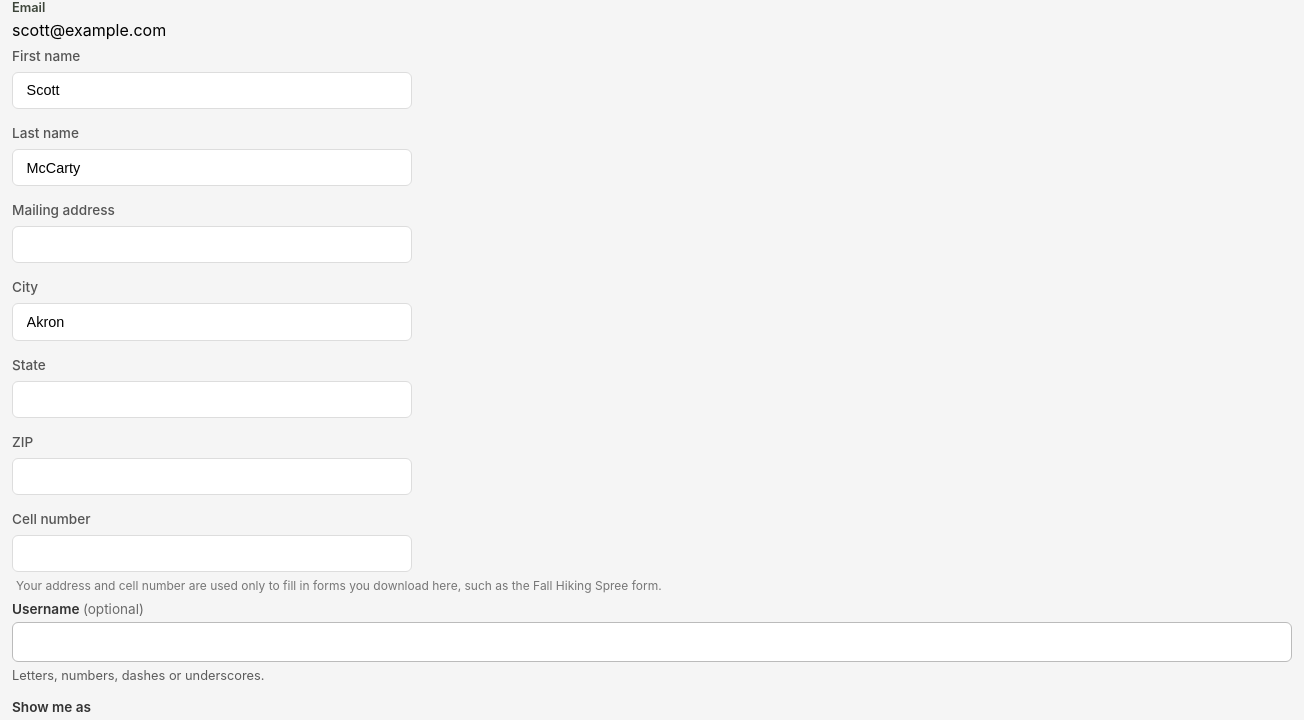
Scenario: AccountProfile › saves the name to the account and the details to the contact in one go
Replace the text in the field labelled "Last name" with "M." at (212, 168), box 12,149 -> 412,186
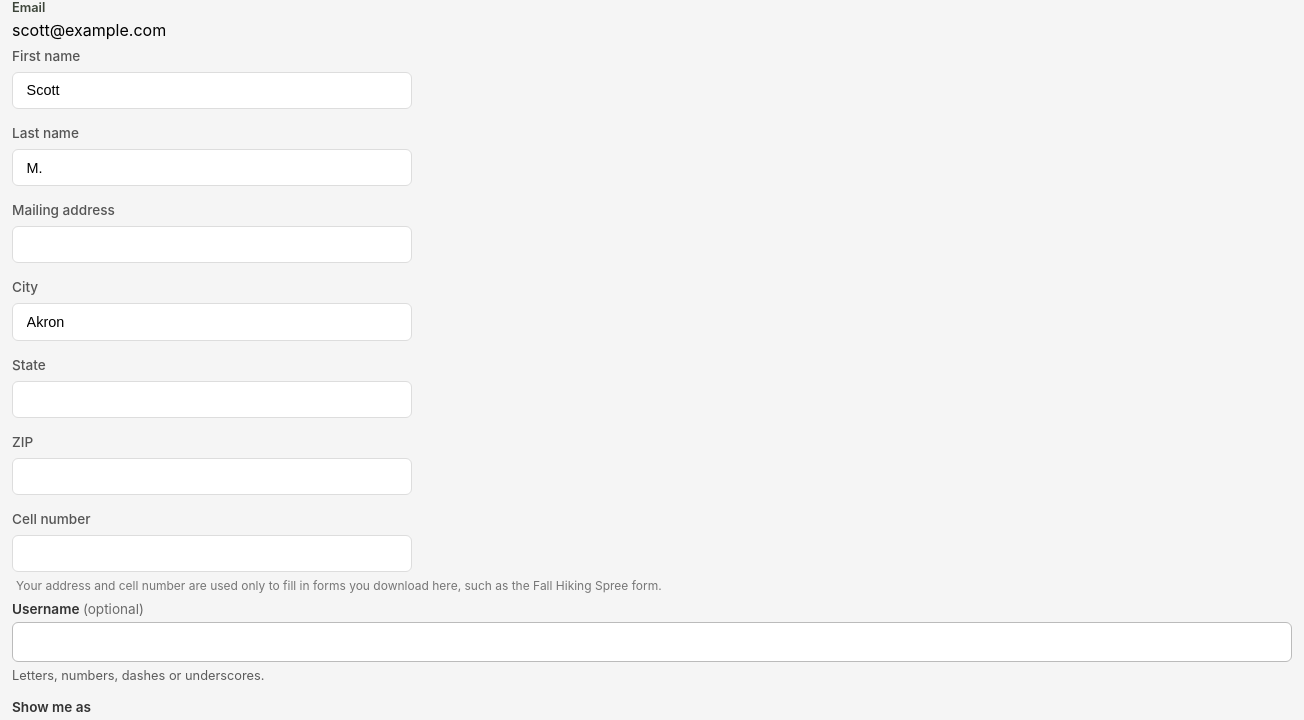
Type " 330-555-0100 " into the field labelled "Cell number" at (212, 554), box 12,535 -> 412,572
(page scrolled)
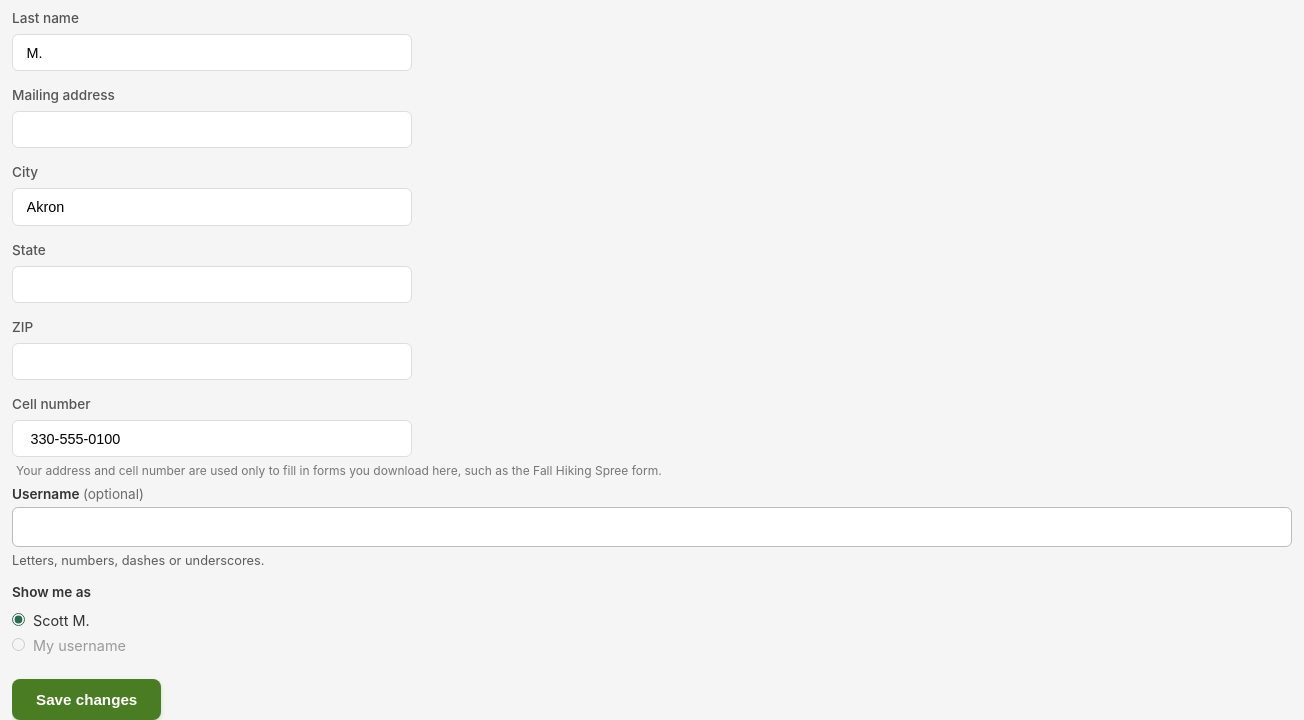
Click the button "Save changes" at (87, 700), box 12,679 -> 161,719
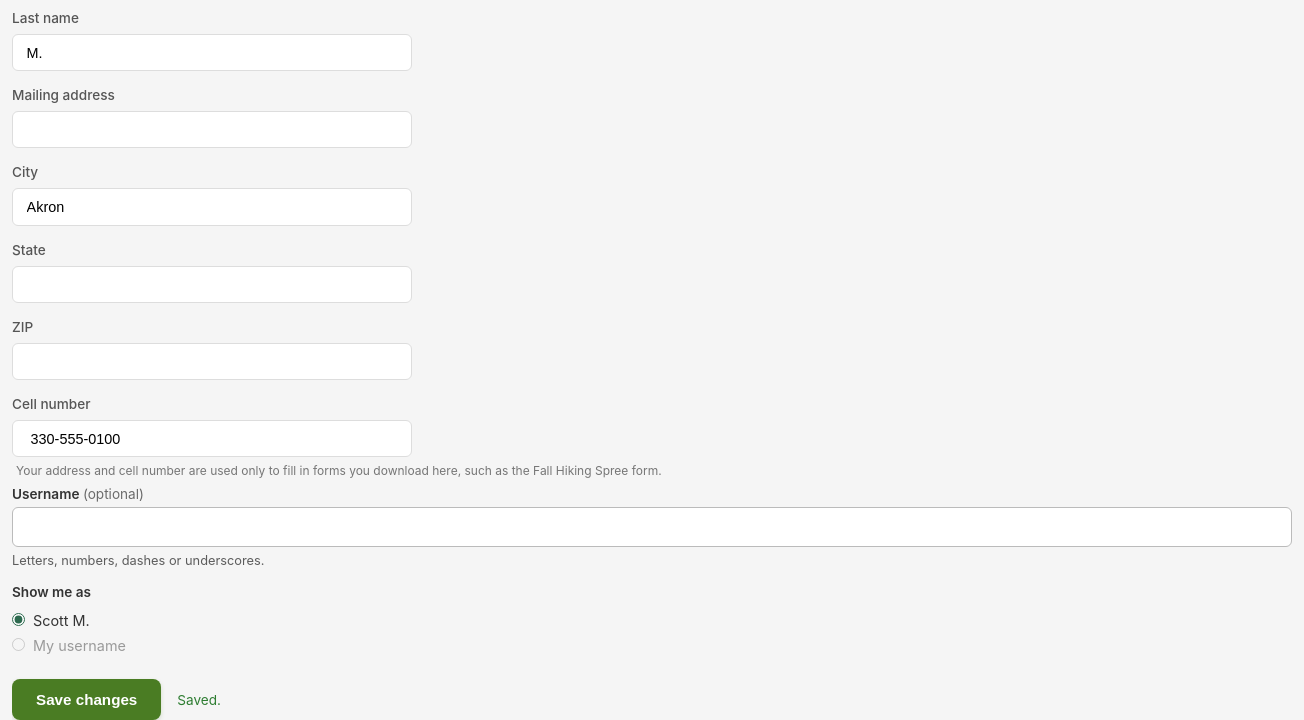
Now the message reads "Saved.", box 177,692 -> 221,708
